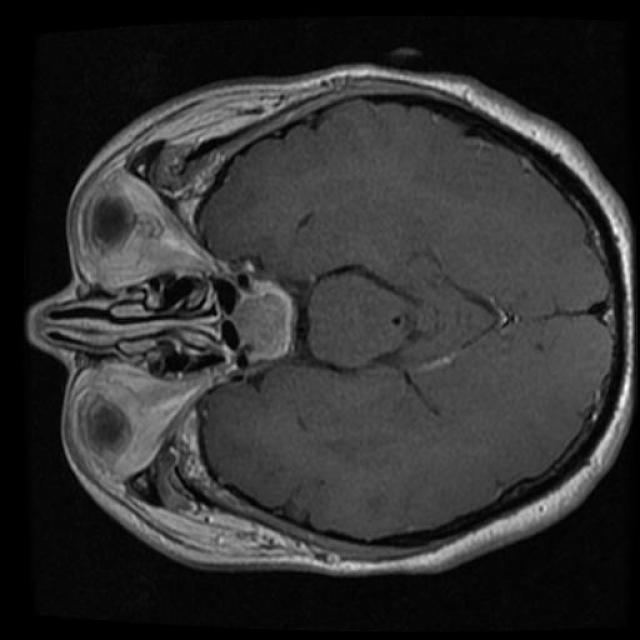Pituitary: (227, 280, 293, 359)
